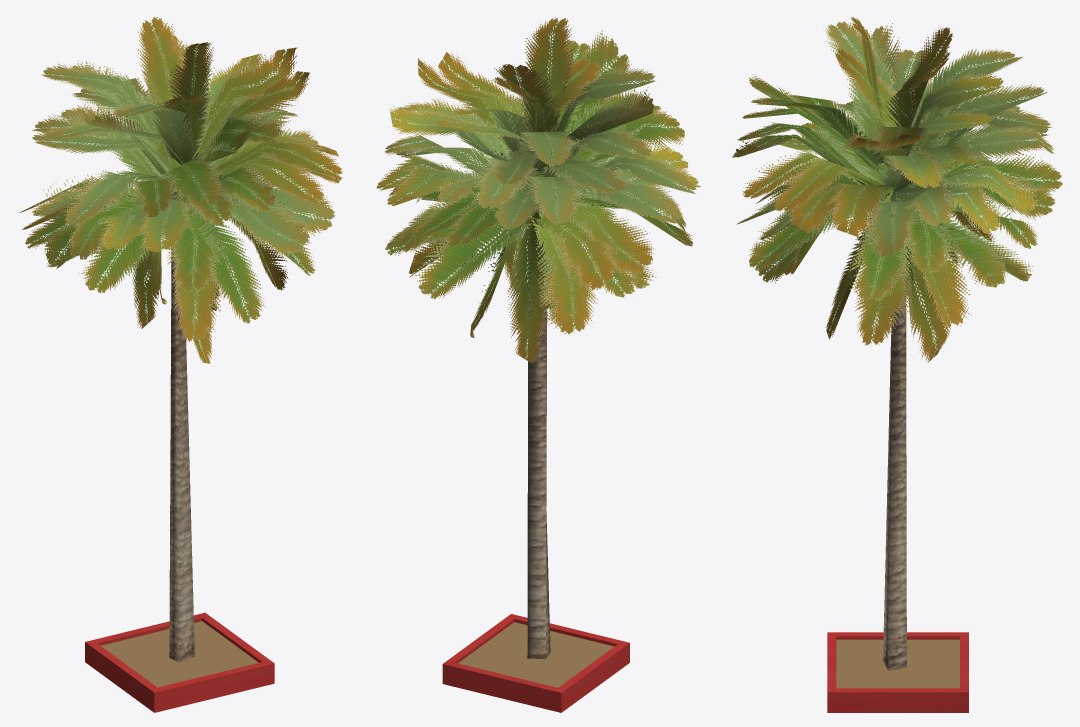
The model's file is palm tree.fbx.
The picture shows the model from 3 angles, left to right: view 1: azimuth 30°, elevation 25°; view 2: azimuth 150°, elevation 25°; view 3: azimuth 270°, elevation 25°; orthographic projection. The views are drawn at different scales.
Parts seen in each view (by area): view 1: PALM_Palmtree-Trunk_0; view 2: PALM_Palmtree-Trunk_0; view 3: PALM_Palmtree-Trunk_0.
Boxes of the visible parts, x1,y1,x2,y2 form: PALM_Palmtree-Trunk_0: [19, 17, 343, 712]; PALM_Palmtree-Trunk_0: [376, 17, 700, 712]; PALM_Palmtree-Trunk_0: [732, 17, 1062, 712].
Size of the model in its own units: 481 by 1034 by 472.
1 material, 1 textured.
